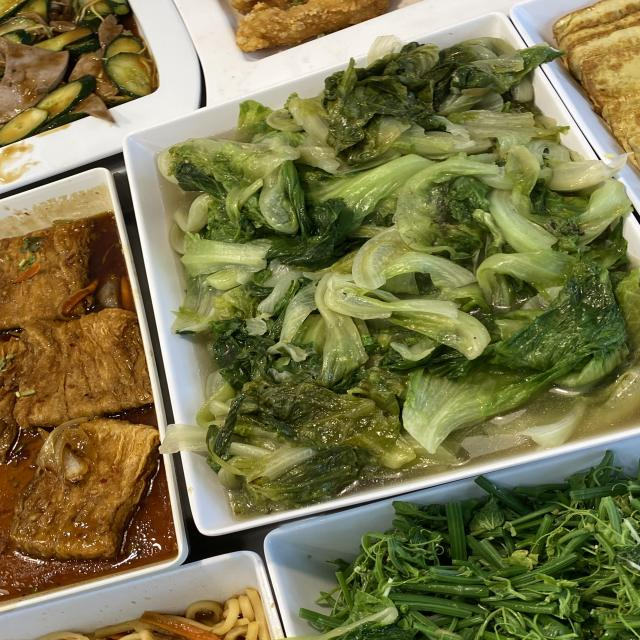Fushan-lettuce: (232, 145, 547, 394)
